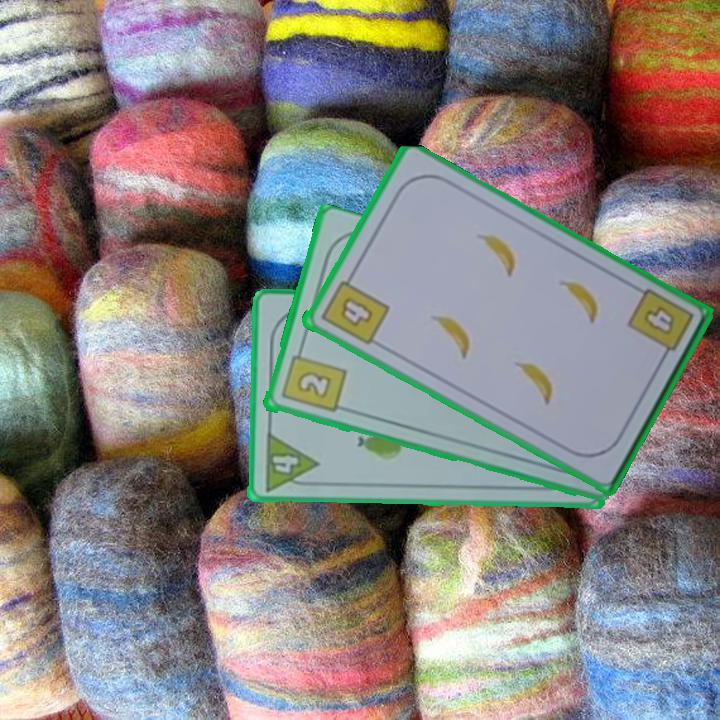2b: (277, 343, 348, 416)
4b: (316, 269, 392, 348), (639, 302, 677, 339)
4p: (261, 429, 321, 494)
